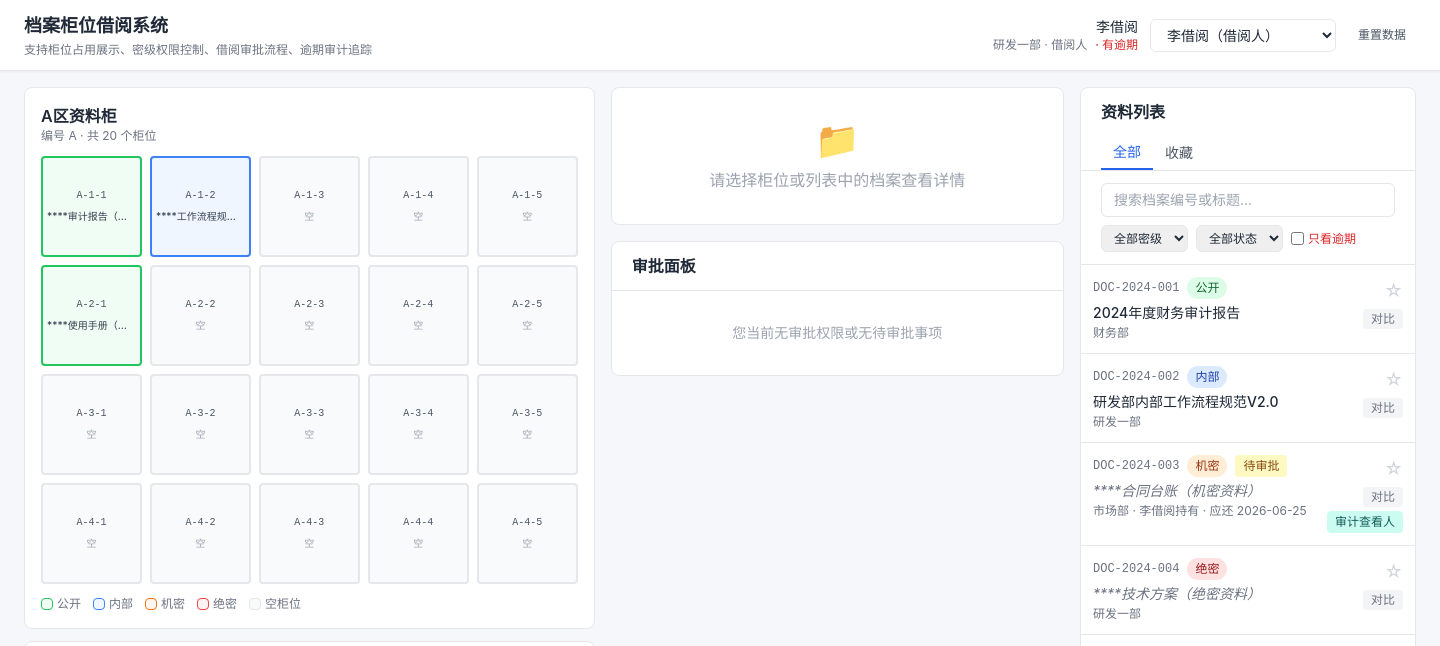
Test: smoke-905: 收藏对比与流程查询复查 › 收藏功能测试 › 详情页可以收藏和取消收藏档案
The image size is (1440, 646).
Select "张档案（档案员）" in the dropdown with test id "role-select": x=1243, y=35 [1150,18,1336,52]
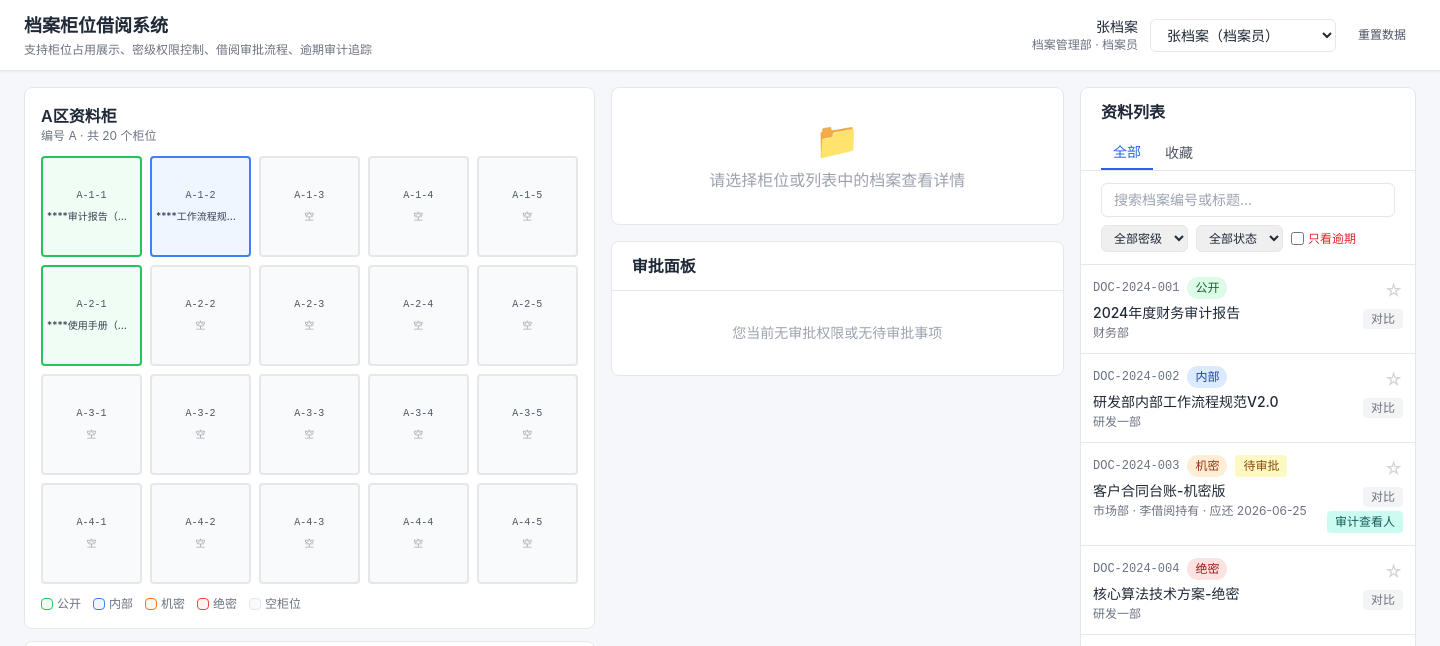
Click the element with test id "archive-row-arc-1": x=1136, y=288 [1081,265,1415,353]
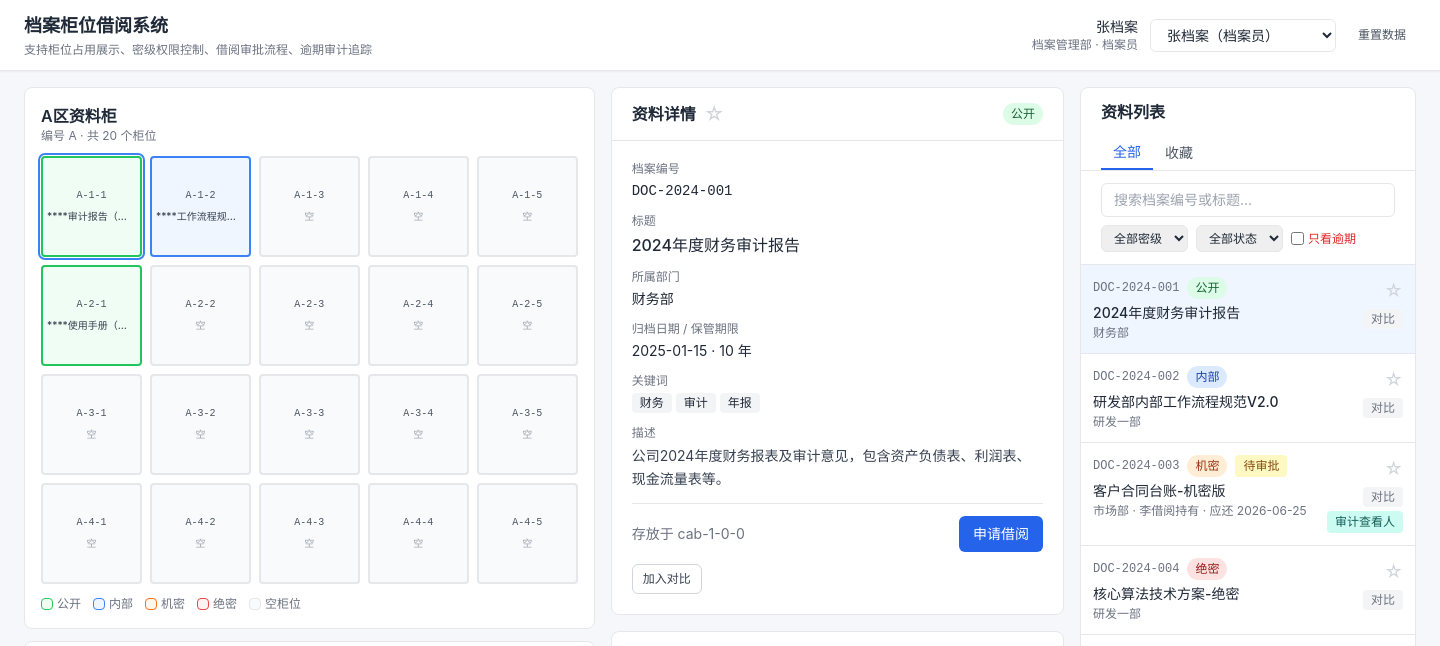
expect the element with test id "archive-detail" is shown: met, box [611,87,1064,614]
expect the button with test id "btn-detail-favorite" reads "☆": met
Click the button with test id "btn-detail-favorite": x=714, y=114 [704,100,725,128]
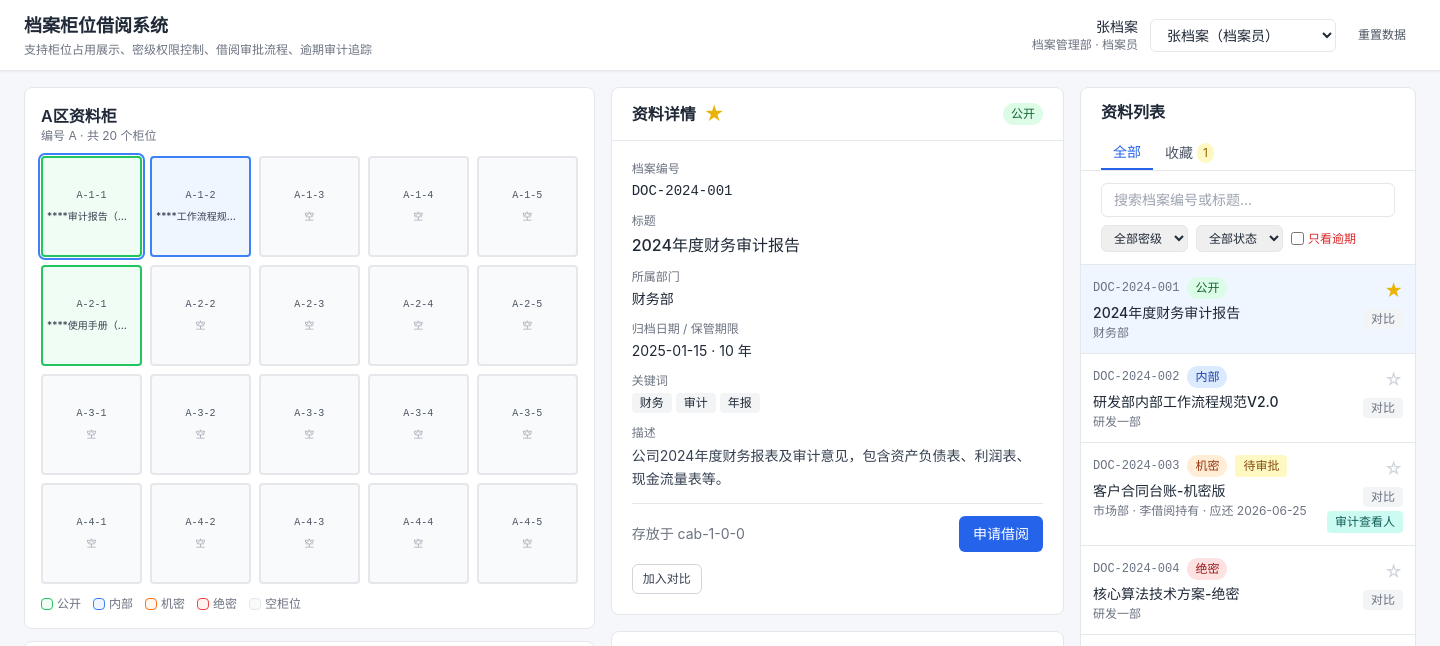
expect the button with test id "btn-detail-favorite" reads "★": met, box [704,100,725,128]
expect the button with test id "btn-favorite-arc-1" reads "★": met, box [1384,277,1403,305]
